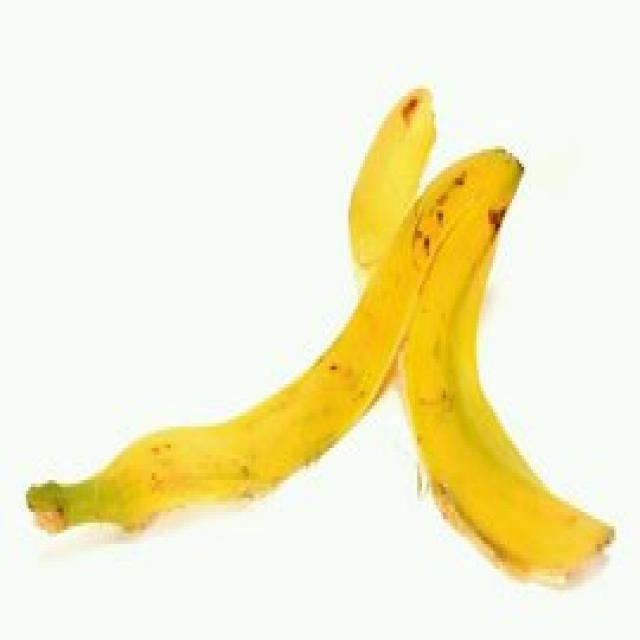banana-peel: (24, 85, 615, 586)
